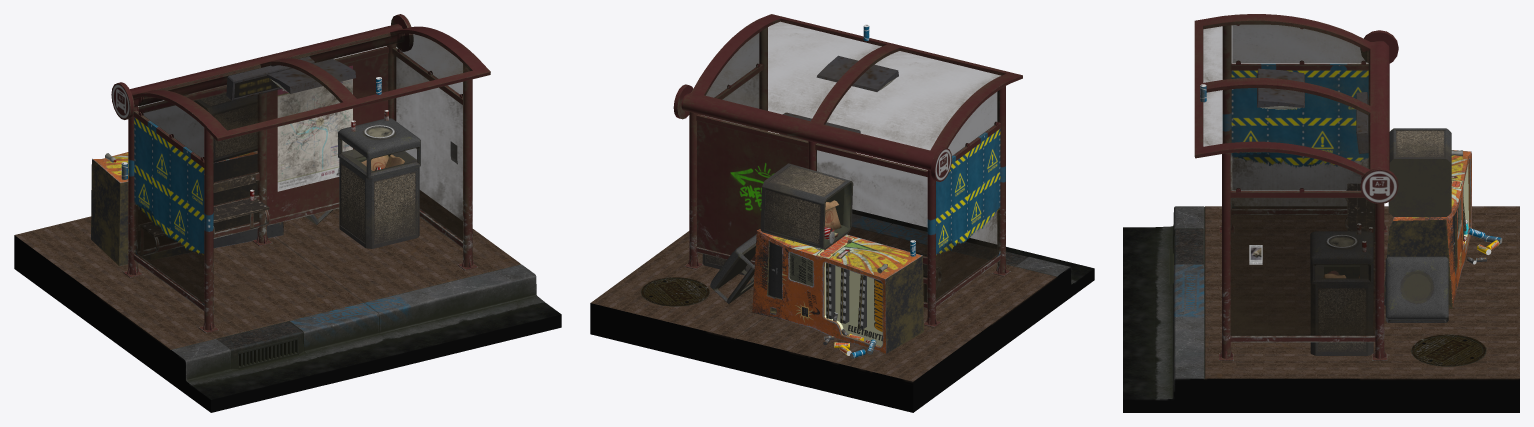
Rendered from bus_shelter_diorama.glb.
3 views of the same model, side by side, from view 1: azimuth 30°, elevation 25°; view 2: azimuth 150°, elevation 25°; view 3: azimuth 270°, elevation 25° (orthographic). The views are drawn at different scales.
Visible parts, largest first — view 1: Object_4, Object_3, Object_6, Object_2; view 2: Object_3, Object_4, Object_2, Object_6, Object_7; view 3: Object_4, Object_3, Object_6, Object_2, Object_7.
Boxes of the visible parts, x1=… form: Object_4: x1=14, y1=190, x2=561, y2=412; Object_3: x1=111, y1=14, x2=490, y2=333; Object_6: x1=105, y1=77, x2=420, y2=248; Object_2: x1=91, y1=151, x2=283, y2=266; Object_3: x1=673, y1=14, x2=1022, y2=327; Object_4: x1=590, y1=209, x2=1094, y2=412; Object_2: x1=752, y1=229, x2=923, y2=355; Object_6: x1=702, y1=24, x2=915, y2=358; Object_7: x1=789, y1=253, x2=880, y2=354; Object_4: x1=1123, y1=206, x2=1519, y2=412; Object_3: x1=1194, y1=14, x2=1398, y2=360; Object_6: x1=1200, y1=84, x2=1502, y2=355; Object_2: x1=1384, y1=150, x2=1491, y2=308; Object_7: x1=1458, y1=159, x2=1499, y2=263.
Bounding box in the file's own units: 4.25 × 2.95 × 4.13.
4 materials, 4 textured.
